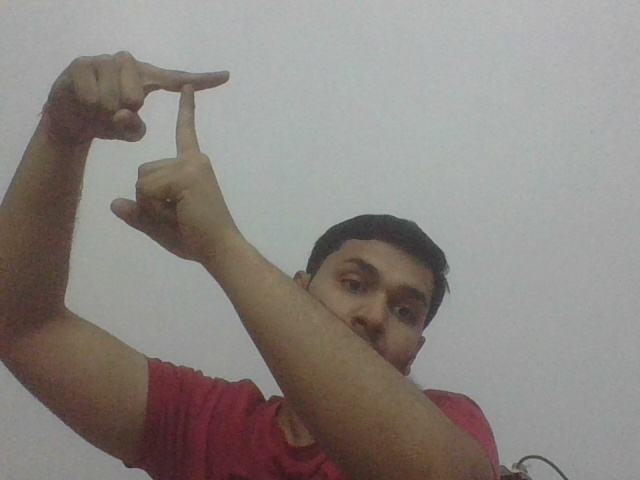T: (150, 60, 234, 154)
